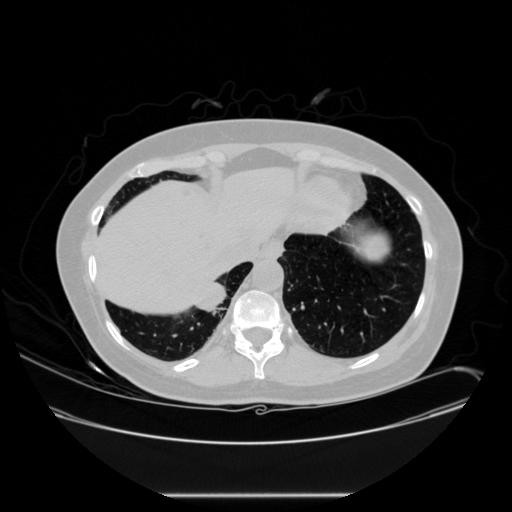nodule: (198, 284, 226, 312)
